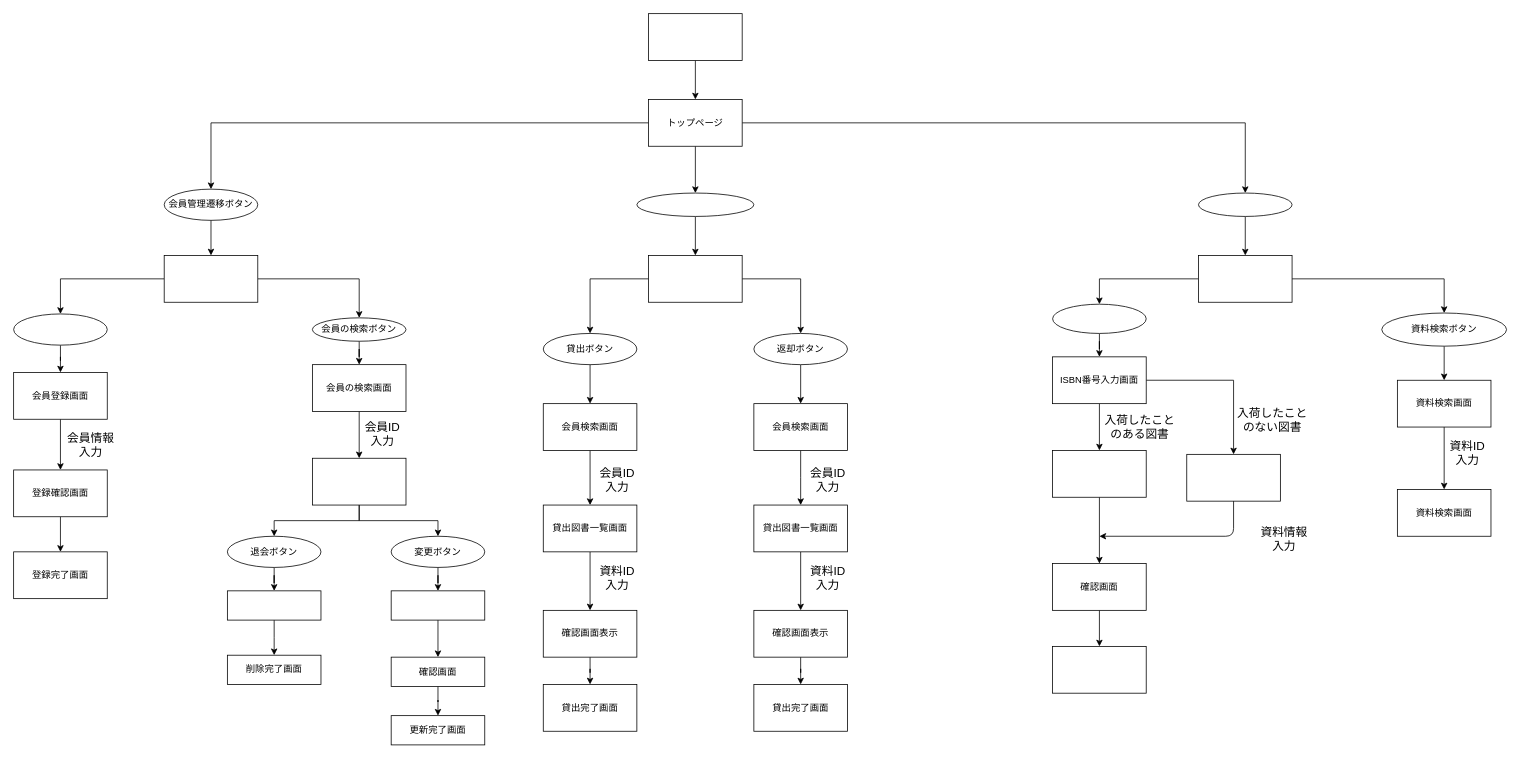
Image size: 1520x759. Some labels were removed from this diagram. Each missing label, with the centre of its shape:
"会員情報画面" goes at point 359,481.
"会員情報画面 (入力可)" goes at point 437,605.
"会員管理画面" goes at point 210,278.
"新規登録ボタン" goes at point 60,329.
"職員のログイン画面" goes at point 695,36.
"貸出・返却画面" goes at point 695,278.
"貸出・返却遷移ボタン" goes at point 695,204.
"貸出状況画面" goes at point 274,605.
"資料情報入力画面" goes at point 1233,477.
"資料情報提示画面" goes at point 1099,473.
"資料登録ボタン" goes at point 1099,318.
"資料登録完了画面" goes at point 1099,669.
"資料管理画面" goes at point 1245,278.
"資料管理遷移ボタン" goes at point 1245,204.
